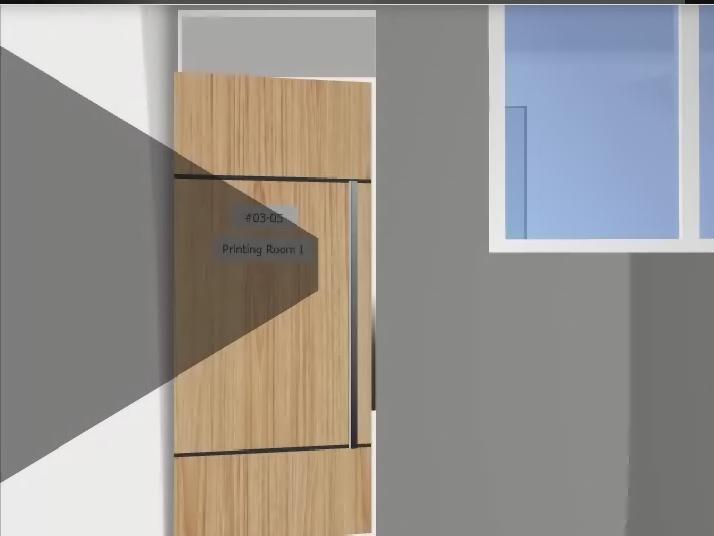door: (174, 72, 371, 536)
